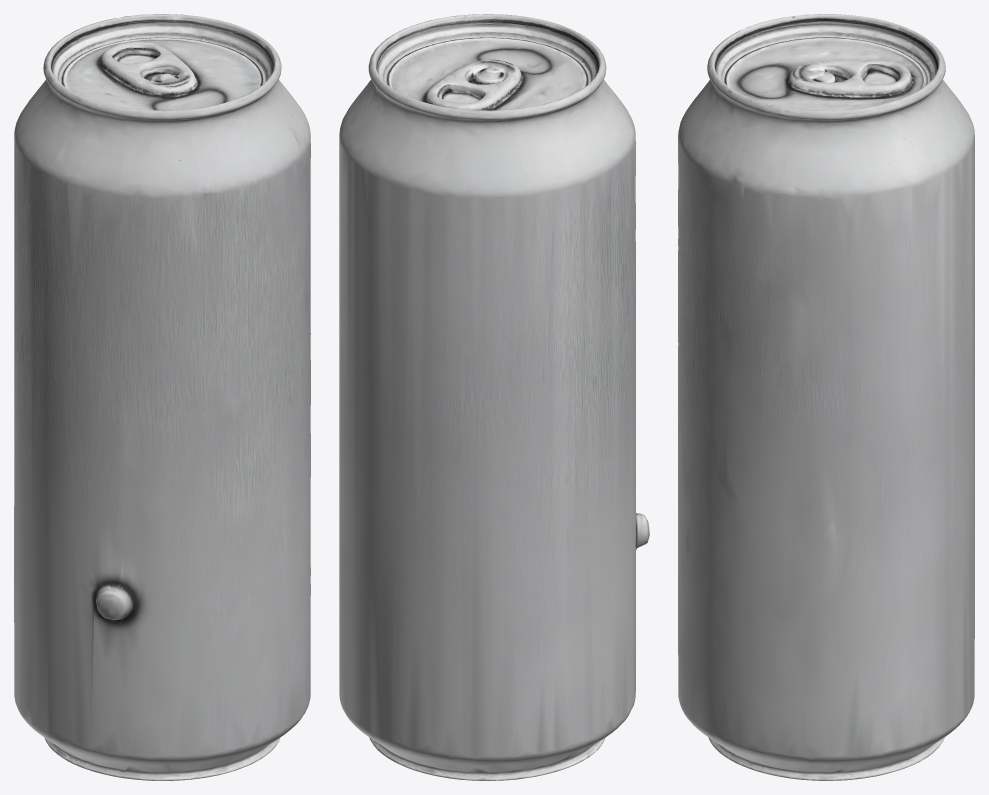
The model's file is can.glb.
3 renders of one model, left to right at view 1: azimuth 30°, elevation 25°; view 2: azimuth 150°, elevation 25°; view 3: azimuth 270°, elevation 25°, orthographic.
Visible parts, largest first — view 1: Mesh_0; view 2: Mesh_0; view 3: Mesh_0.
Part boxes in pixels (<box>): Mesh_0: <box>14,14,310,780</box>; Mesh_0: <box>339,14,649,780</box>; Mesh_0: <box>678,14,974,780</box>.
Bounding box in the file's own units: 25206 × 62642 × 25214.
Materials: 1 (1 with a texture image).
